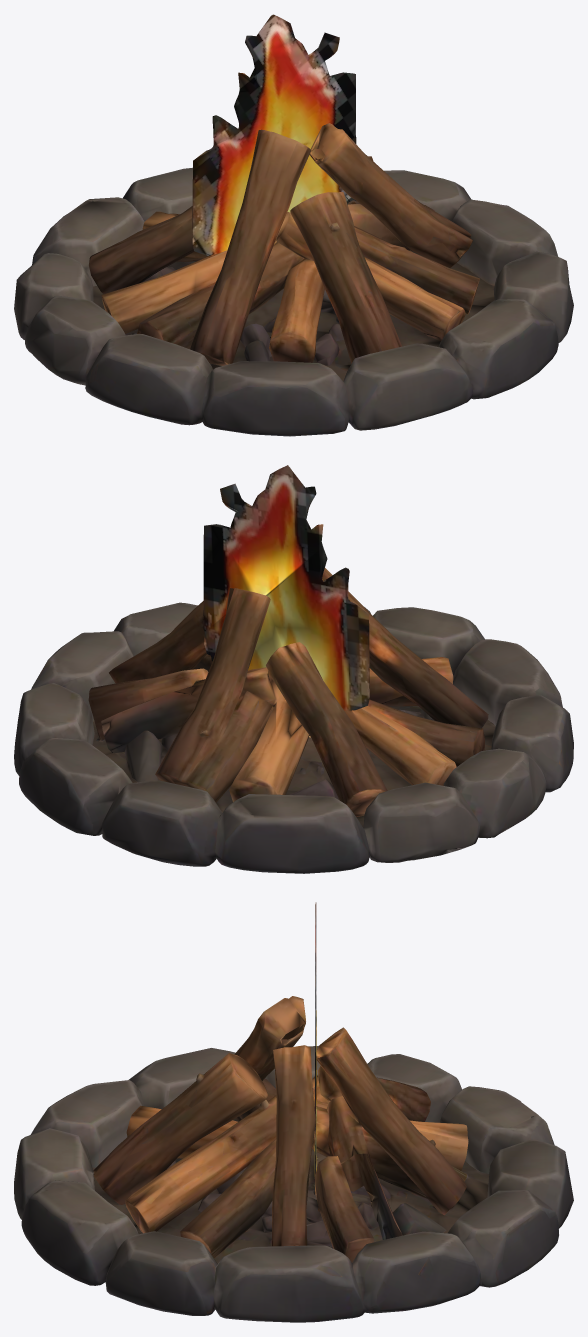
File: fogata_lena.movil.glb
3 renders of one model, top to bottom at view 1: azimuth 30°, elevation 25°; view 2: azimuth 150°, elevation 25°; view 3: azimuth 270°, elevation 25°, orthographic.
Visible parts, largest first — view 1: geometry_0; view 2: geometry_0; view 3: geometry_0.
Boxes of the visible parts, bbox=[...] form: geometry_0: bbox=[14, 14, 573, 436]; geometry_0: bbox=[14, 465, 573, 873]; geometry_0: bbox=[14, 902, 573, 1322].
Size of the model in its own units: 0.976 by 0.5889 by 0.9846.
Materials: 1 (1 with a texture image).
